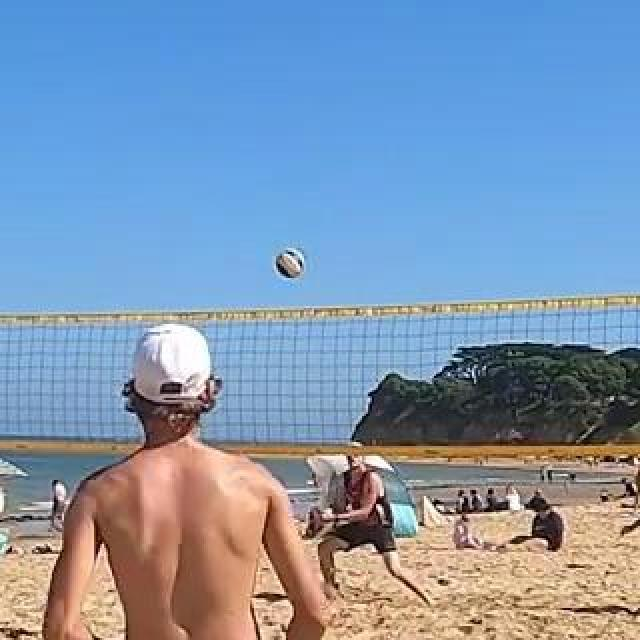volleyball: (274, 252, 304, 280)
